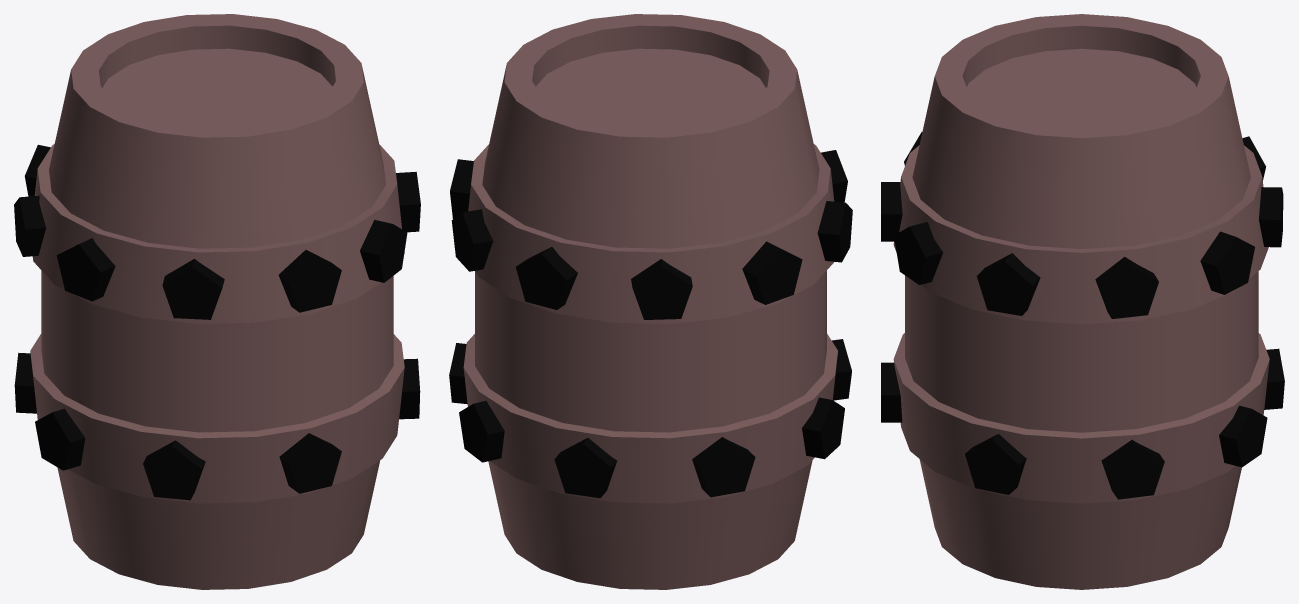
The model's file is prop_barrel_roberto.fbx.
3 views of the same model, side by side, from view 1: azimuth 30°, elevation 25°; view 2: azimuth 150°, elevation 25°; view 3: azimuth 270°, elevation 25° (orthographic).
Parts seen in each view (by area): view 1: prop_barrel_roberto; view 2: prop_barrel_roberto; view 3: prop_barrel_roberto.
Boxes of the visible parts, <box> form: prop_barrel_roberto: <box>14,14,420,589</box>; prop_barrel_roberto: <box>449,14,852,589</box>; prop_barrel_roberto: <box>881,14,1284,589</box>.
Size of the model in its own units: 2.76 by 3.39 by 2.75.
